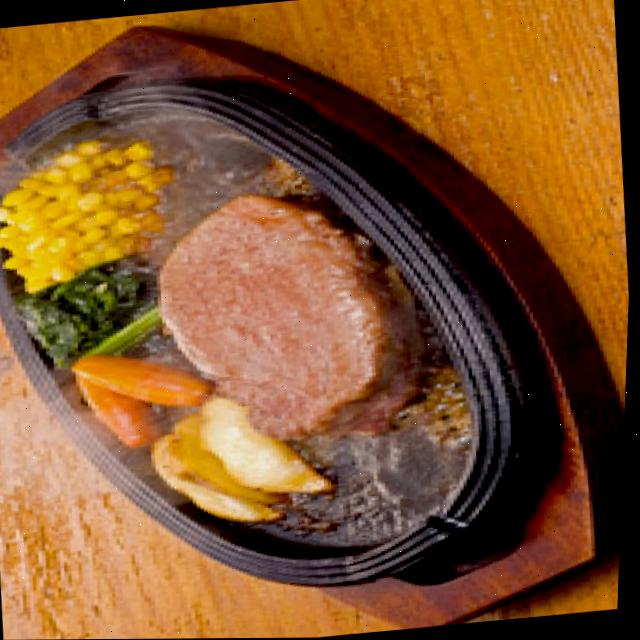牛肉菜式: (117, 177, 440, 465)
